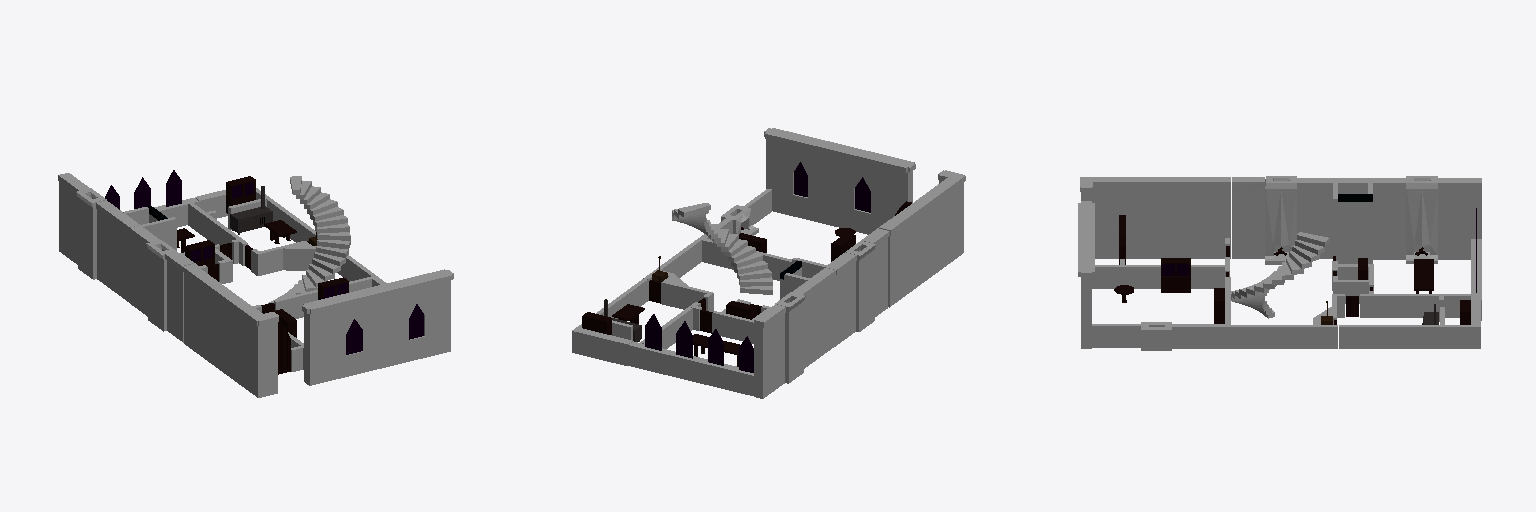
The model's file is floor1_walls.obj.
The picture shows the model from 3 angles: view 1: azimuth 30°, elevation 25°; view 2: azimuth 150°, elevation 25°; view 3: azimuth 270°, elevation 25°; orthographic projection.
Visible parts, largest first — view 1: Wall_S.001_Cube.146; view 2: Wall_S.001_Cube.146; view 3: Wall_S.001_Cube.146.
Part boxes in pixels (x1,y1,x2,y2): Wall_S.001_Cube.146: (58,170,453,397); Wall_S.001_Cube.146: (572,128,965,398); Wall_S.001_Cube.146: (1078,176,1481,350).
Bounding box in the file's own units: 8.15 × 3.61 × 14.08.